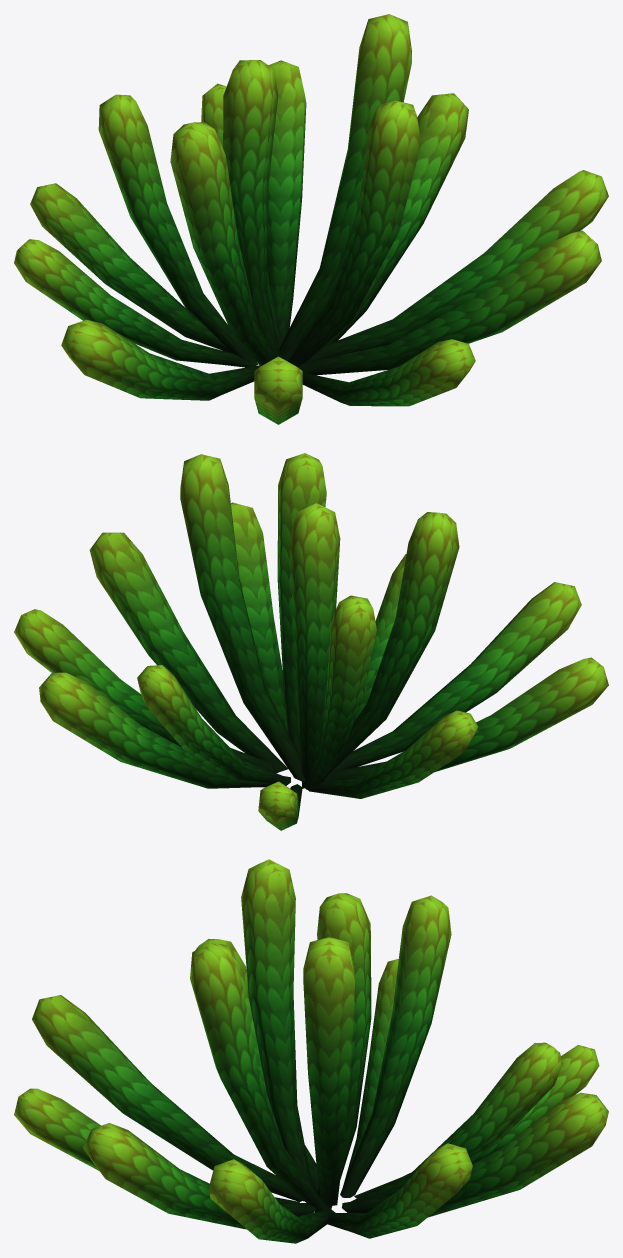
File: Coral_08.FBX
3 renders of one model, top to bottom at view 1: azimuth 30°, elevation 25°; view 2: azimuth 150°, elevation 25°; view 3: azimuth 270°, elevation 25°, orthographic. The views are drawn at different scales.
Parts seen in each view (by area): view 1: Coral_08; view 2: Coral_08; view 3: Coral_08.
Part boxes in pixels (x1,y1,x2,y2): Coral_08: [14, 14, 608, 424]; Coral_08: [14, 453, 608, 830]; Coral_08: [14, 859, 608, 1243].
Size of the model in its own units: 133 by 79.03 by 128.
